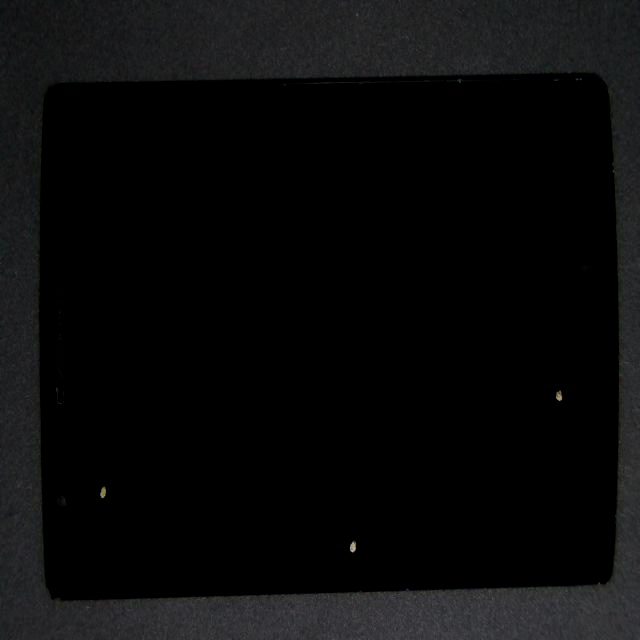stain: (297, 147, 640, 556), (191, 233, 521, 640), (59, 203, 134, 640)
